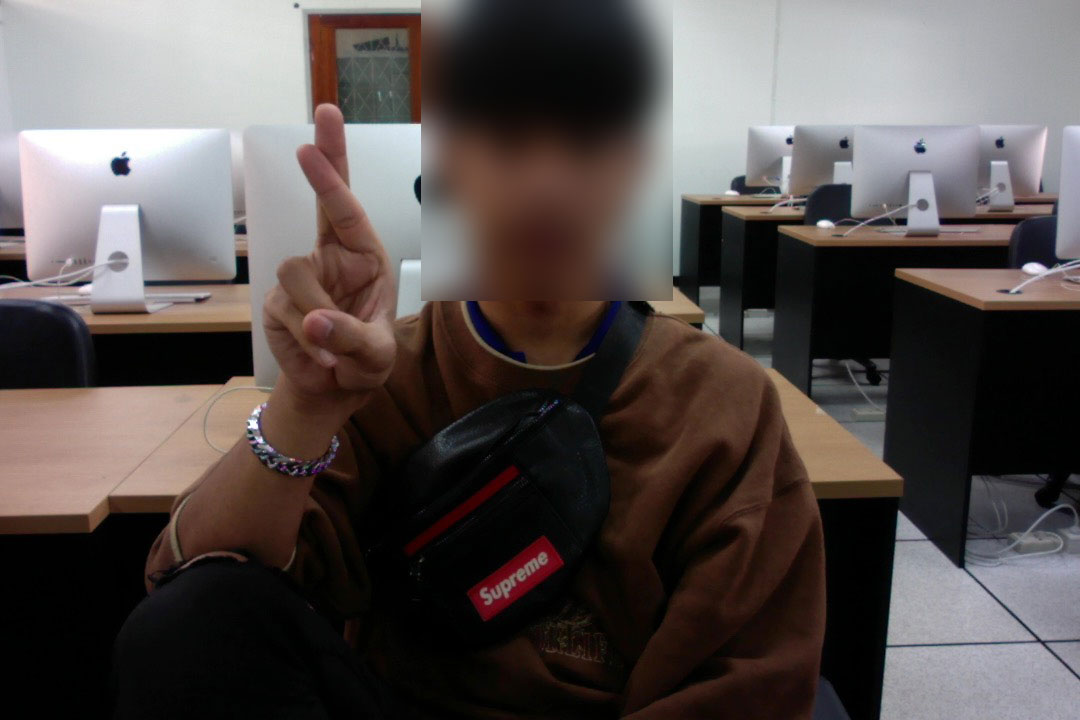rao: (247, 91, 414, 408)
